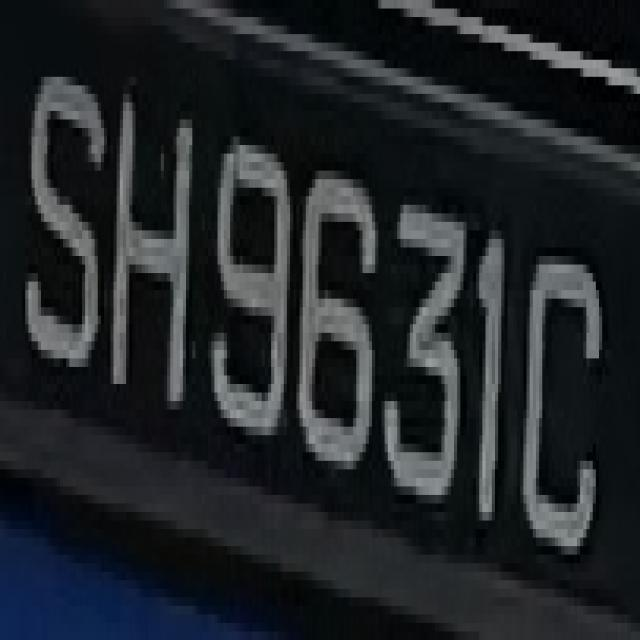1: (463, 188, 511, 563)
3: (382, 145, 466, 538)
6: (302, 171, 384, 478)
9: (211, 111, 293, 444)
C: (517, 230, 609, 589)
H: (107, 51, 202, 427)
S: (28, 42, 98, 392)
